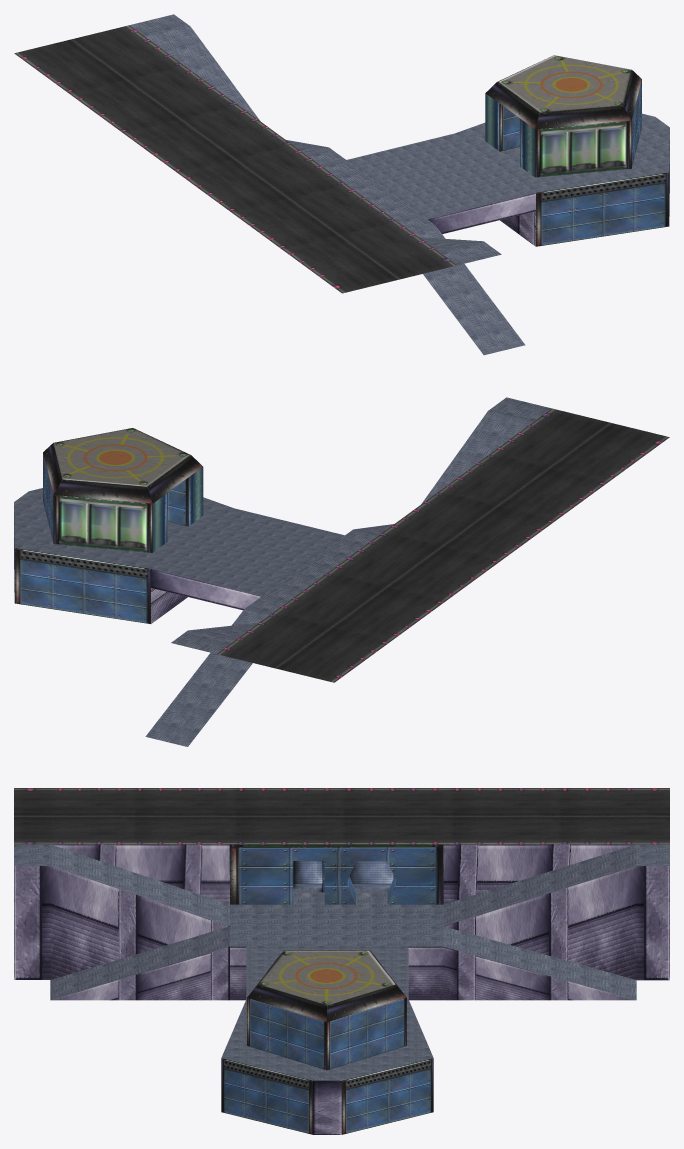
Rendered from bathroom.glb.
3 renders of one model, top to bottom at view 1: azimuth 30°, elevation 25°; view 2: azimuth 150°, elevation 25°; view 3: azimuth 270°, elevation 25°, orthographic. The views are drawn at different scales.
Visible parts, largest first — view 1: bathroom; view 2: bathroom; view 3: bathroom.
Part boxes in pixels (box(x1,y1,x2,y2)): bathroom: box(14, 14, 669, 355); bathroom: box(14, 397, 669, 746); bathroom: box(14, 788, 669, 1134).
Size of the model in its own units: 5811 by 1329 by 6918.
Materials: 7 (7 with a texture image).
